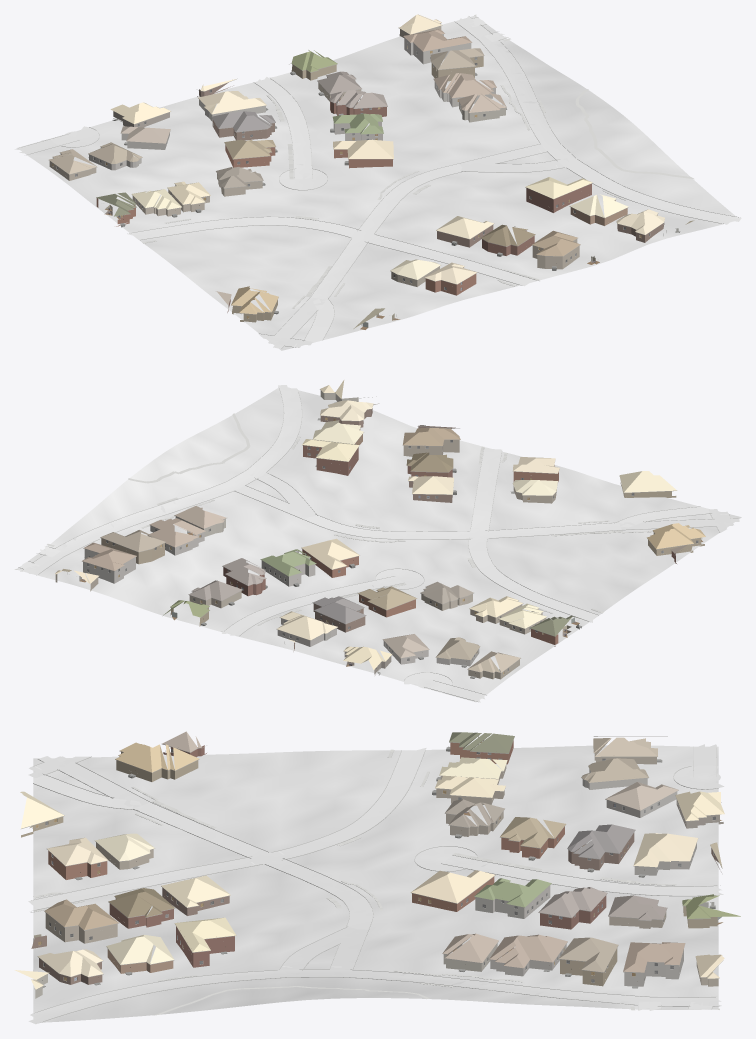
3 views of the same model, one above another, from view 1: azimuth 30°, elevation 25°; view 2: azimuth 150°, elevation 25°; view 3: azimuth 270°, elevation 25° (orthographic). The views are drawn at different scales.
Parts seen in each view (by area): view 1: ground, roof, concrete, wall, curb, detail, wall_stone, walk, wall_stucco; view 2: ground, roof, concrete, wall, curb, wall_stone, detail, walk, wall_stucco; view 3: ground, roof, concrete, wall, curb, wall_stone, detail, walk, wall_stucco, glass.
Part boxes in pixels (x1,y1,x2,y2): ground: (17,16,735,350); roof: (49,14,694,328); concrete: (14,16,741,348); wall: (49,23,664,322); curb: (17,16,738,348); detail: (49,22,680,325); wall_stone: (89,34,495,170); walk: (142,14,694,308); wall_stucco: (132,102,505,216); ground: (17,387,741,702); roof: (55,380,705,672); concrete: (20,385,739,702); wall: (55,408,704,679); curb: (18,386,738,701); wall_stone: (83,525,479,666); detail: (67,389,702,678); walk: (14,413,652,632); wall_stucco: (175,390,546,634); ground: (33,745,718,1022); roof: (14,731,740,989); concrete: (28,744,724,1024); wall: (21,740,723,986); curb: (30,745,721,1022); wall_stone: (475,769,696,986); detail: (21,736,722,989); walk: (33,749,719,1015); wall_stucco: (34,765,506,998); glass: (43,749,715,982).
Bounding box in the file's own units: 255 × 25.55 × 266.
